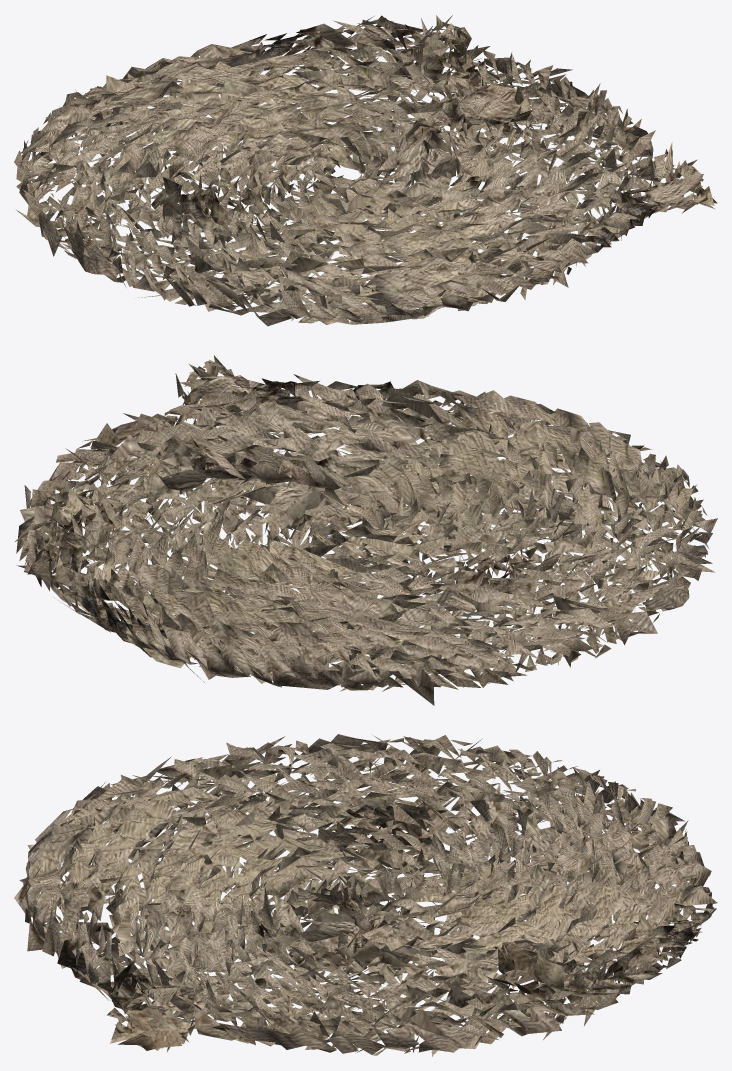
The model's file is rope-coil-large-interior-lod.glb.
3 views of the same model, one above another, from view 1: azimuth 30°, elevation 25°; view 2: azimuth 150°, elevation 25°; view 3: azimuth 270°, elevation 25° (orthographic). The views are drawn at different scales.
Parts seen in each view (by area): view 1: Mesh_0; view 2: Mesh_0; view 3: Mesh_0.
Boxes of the visible parts, bbox=[...] form: Mesh_0: bbox=[14, 15, 717, 326]; Mesh_0: bbox=[15, 355, 717, 705]; Mesh_0: bbox=[14, 734, 717, 1056].
Size of the model in its own units: 1.92 by 0.2937 by 1.9.
1 material, 1 textured.
